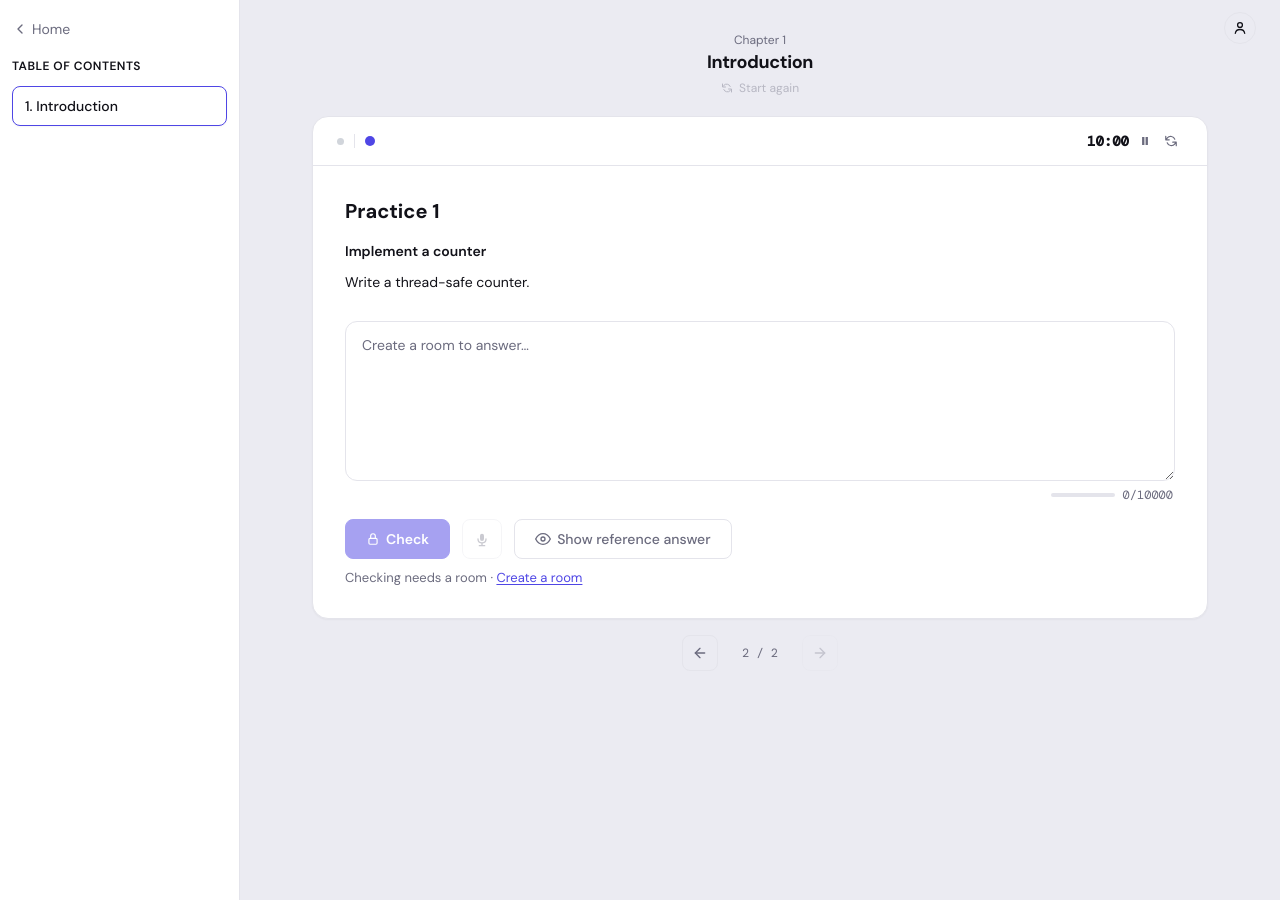
App routing › creates a room from a roomless question and stays on that question
Click the button "Create a room". click: (539, 578)
box: left=496, top=570, right=582, bottom=586
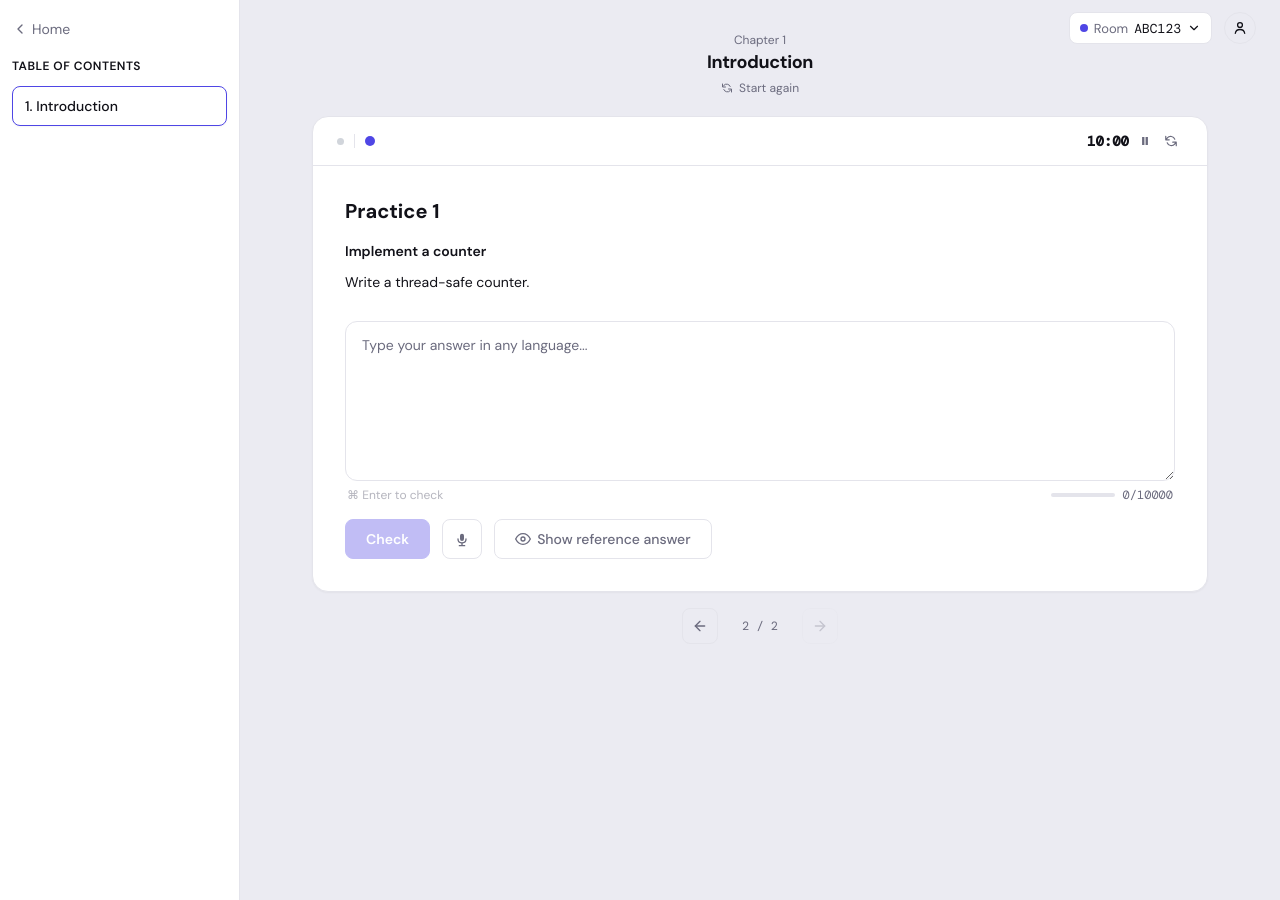
Expected: the heading "Practice 1" is shown, left=345, top=198, right=440, bottom=224
Now the button "Room ABC123" is shown, box left=1069, top=12, right=1212, bottom=44
Now the text box with placeholder "Type your answer in any language..." is enabled, box left=345, top=321, right=1175, bottom=481
